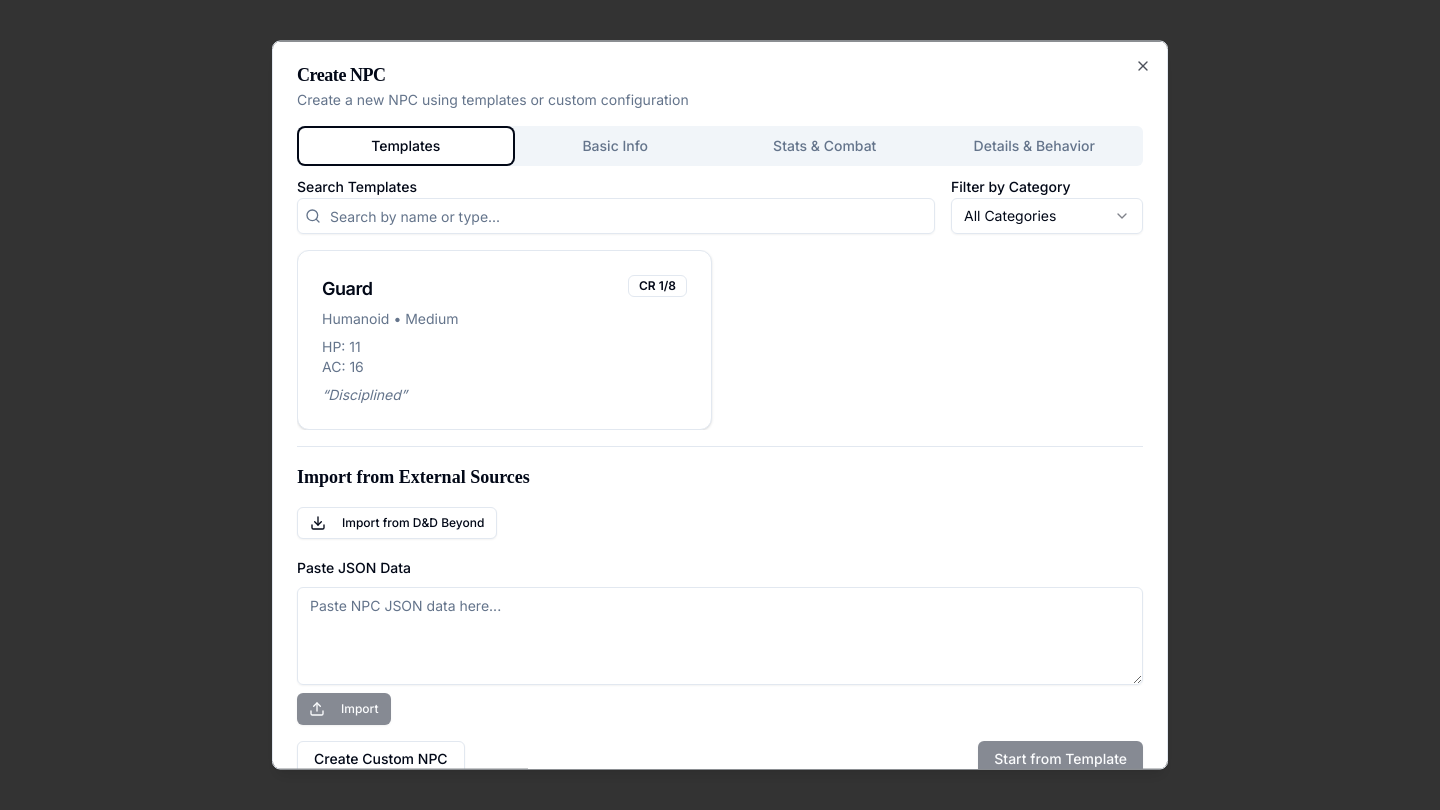
Test: NPCCreationForm › Basic Info Tab › shows basic info form when tab is clicked
What coordinates should you click on to do the following:
click the tab "Basic Info"
I would click on:
 (615, 146)
Its box is [510,130,720,162].
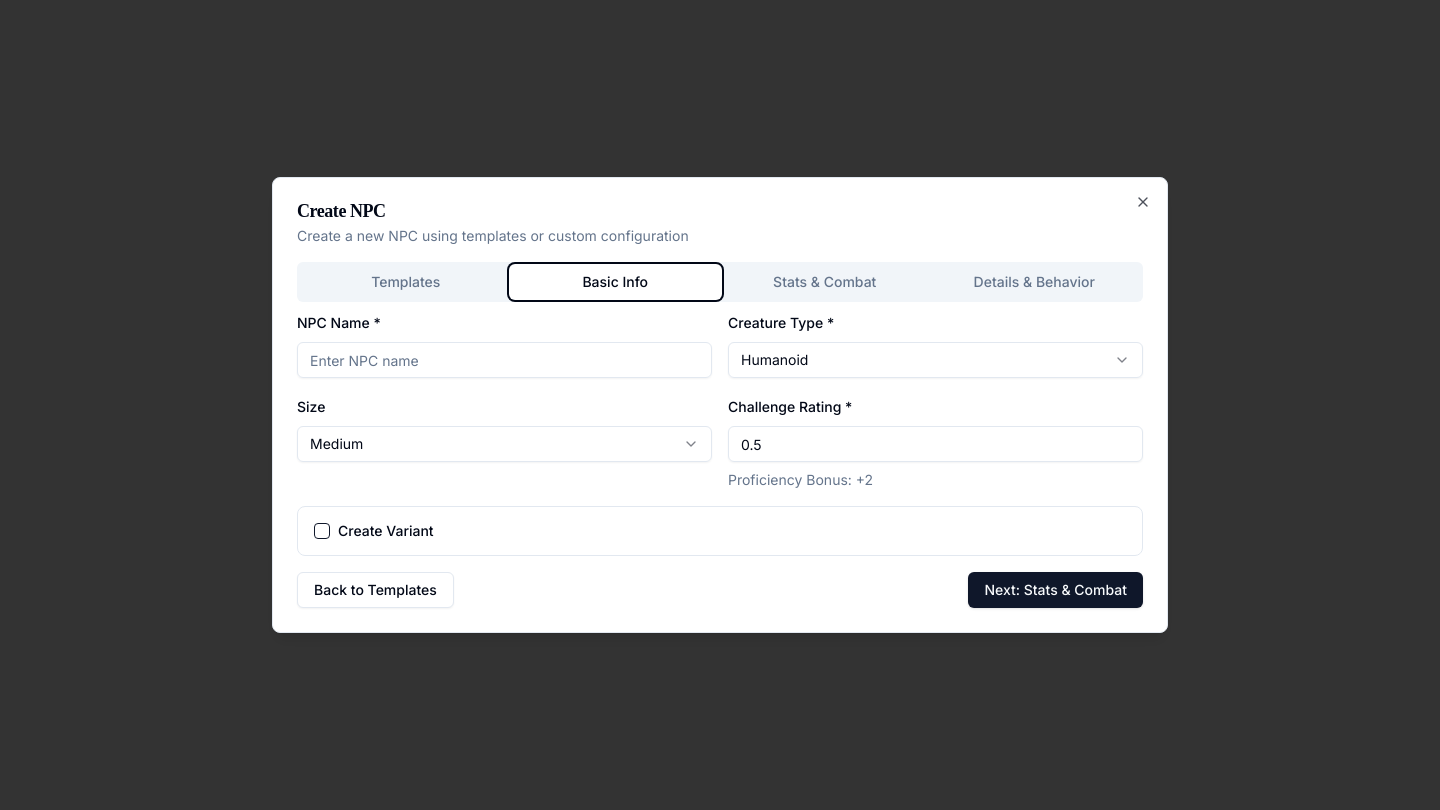
Expected: the dropdown named "creature type" is shown, [728,342,1143,378]
Now the field labelled "NPC Name *" is shown, box [297,342,712,378]
Now the number field labelled "Challenge Rating *" is shown, box [728,426,1143,462]
